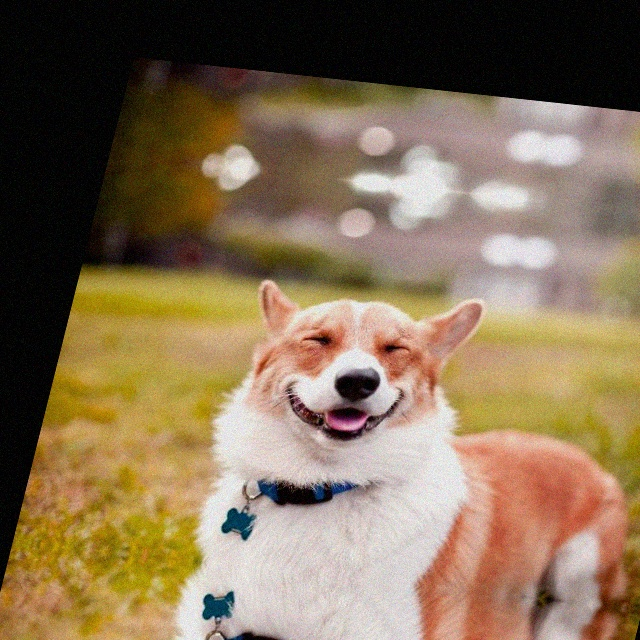dog: (189, 246, 504, 504), (285, 74, 547, 123)
